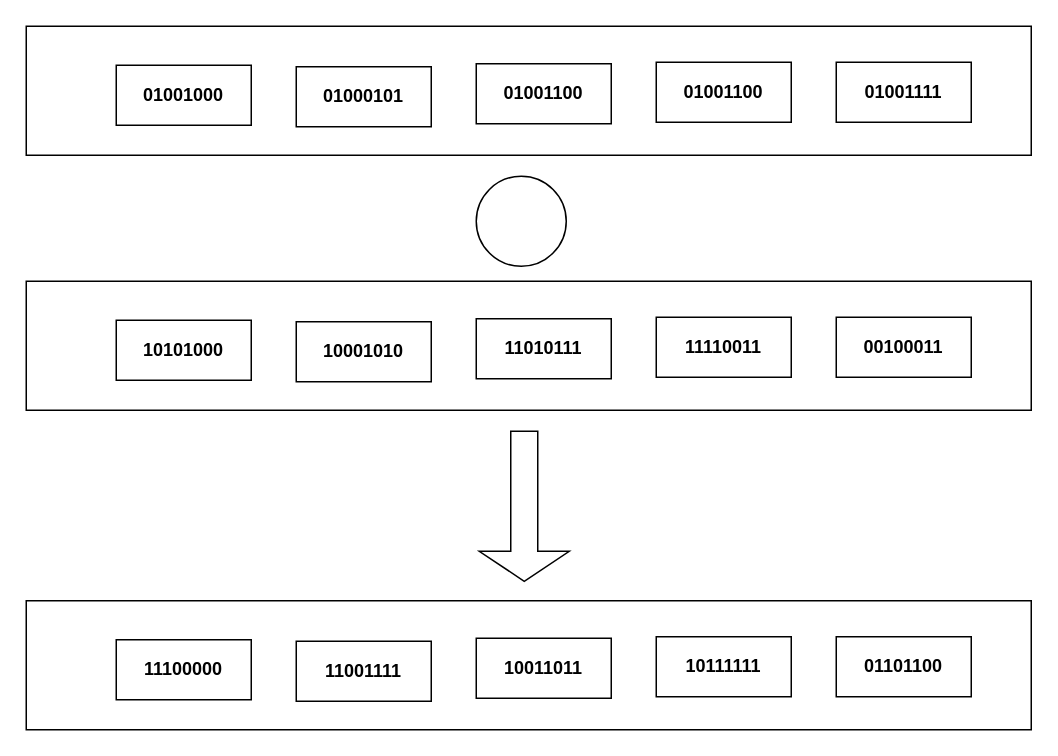
Some shapes in this 1058 by 756 pixel diagram are drawn without their labels. Here are the shapes that lost their labels. From the top down, the box of each, then its label:
(25, 25, 1031, 155): Plaintext
(475, 175, 566, 266): XOR
(25, 280, 1031, 410): Random key (EXAMPLE)
(25, 599, 1031, 730): Ciphertext
